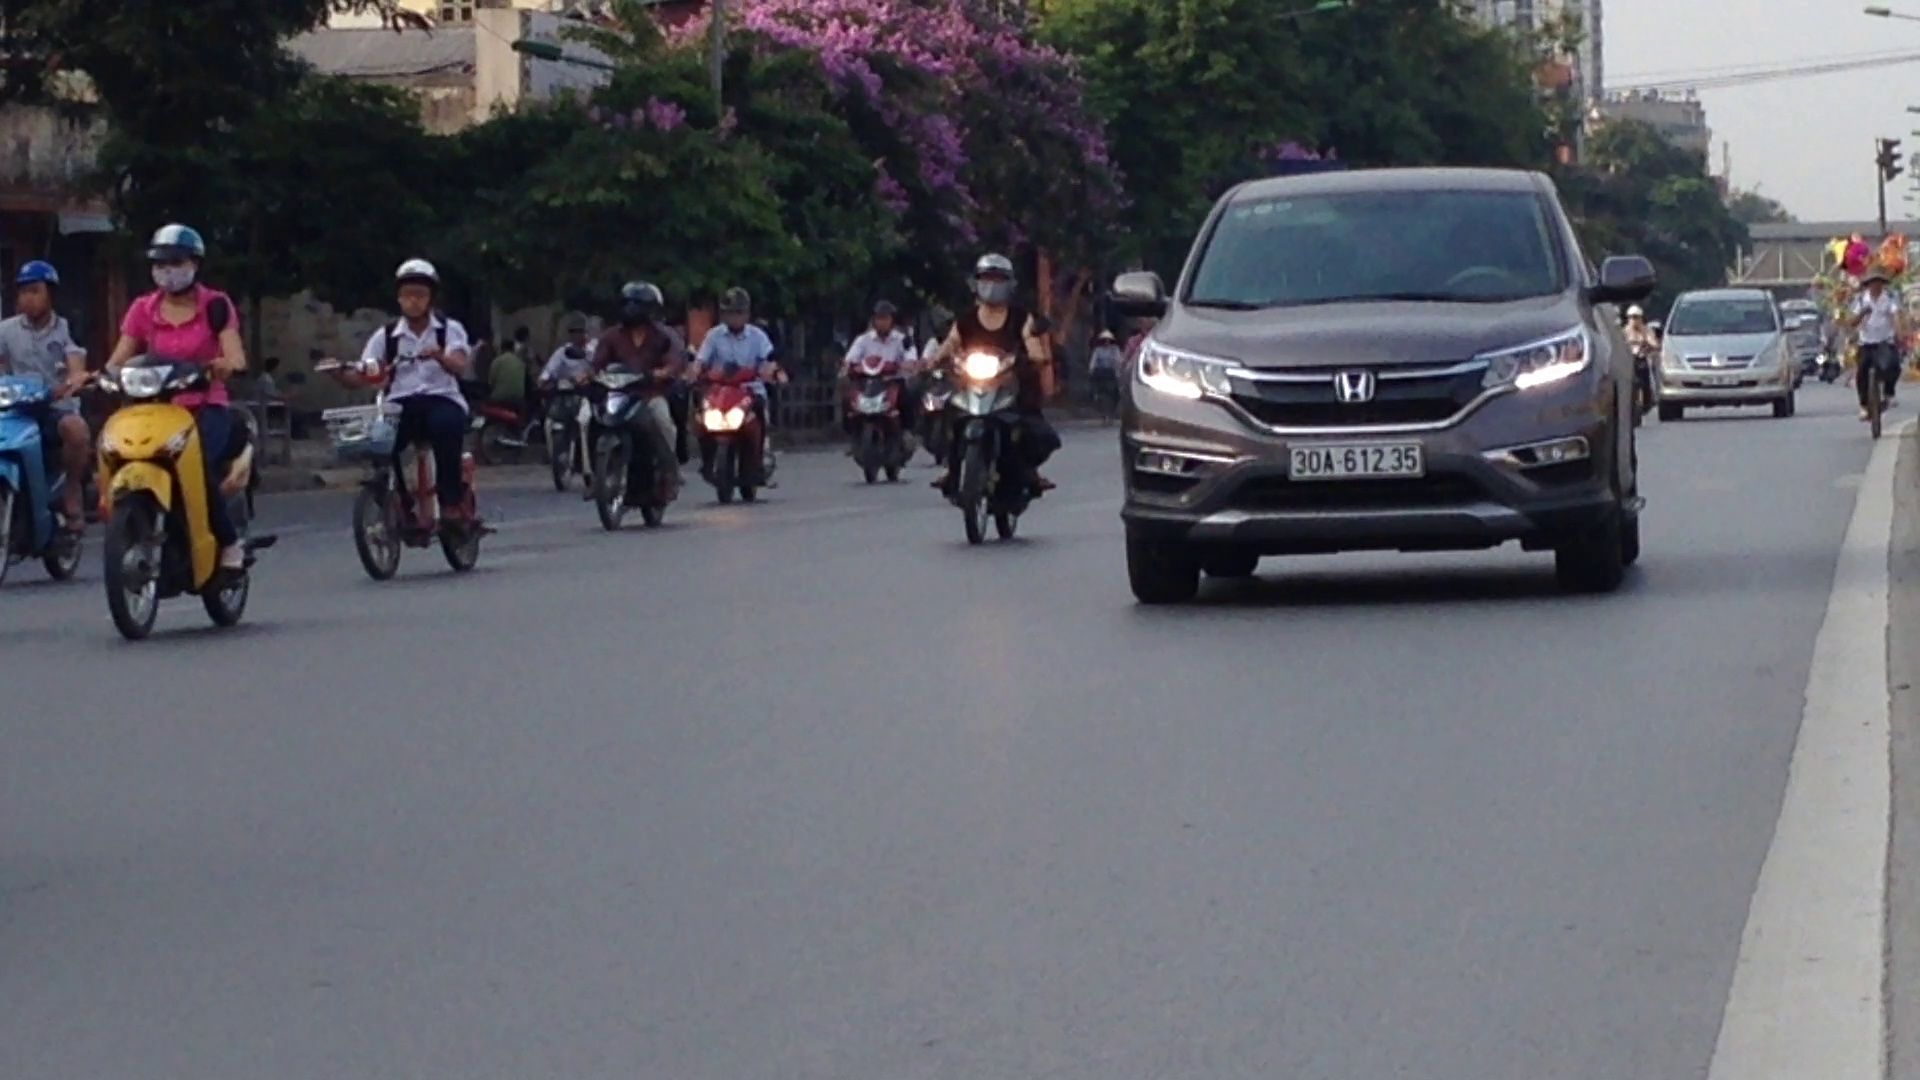person: (1286, 436, 1428, 481)
